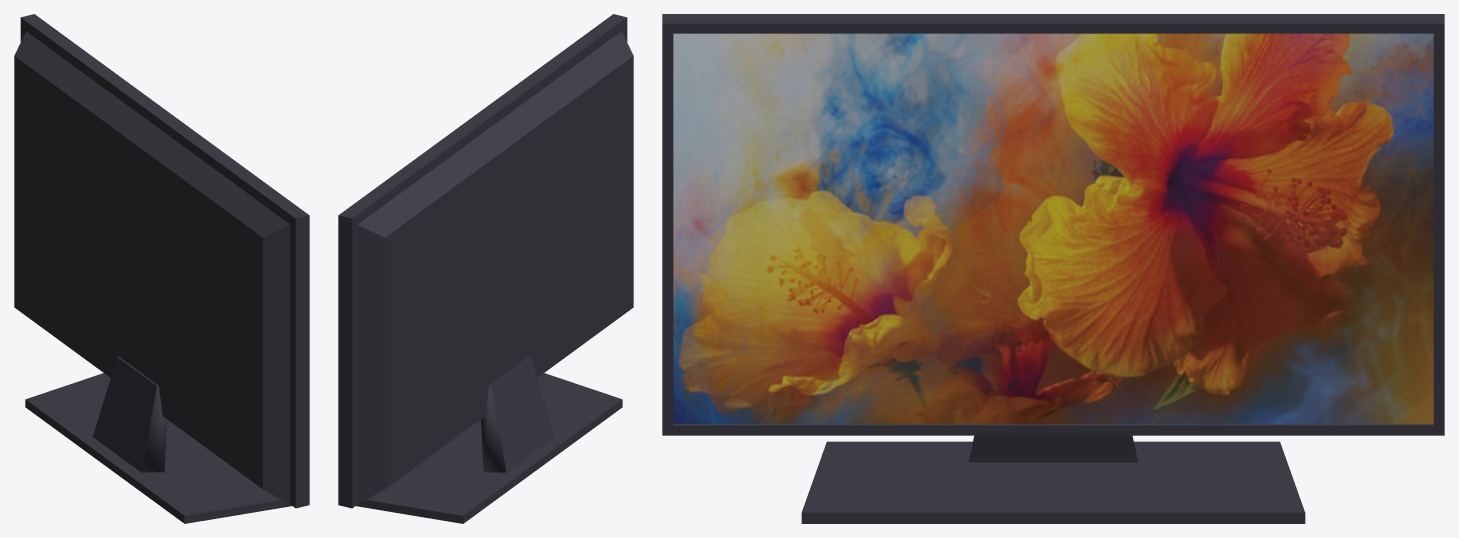
3 views of the same model, side by side, from view 1: azimuth 30°, elevation 25°; view 2: azimuth 150°, elevation 25°; view 3: azimuth 270°, elevation 25° (orthographic). The views are drawn at different scales.
Parts seen in each view (by area): view 1: TV_49; view 2: TV_49; view 3: TV_49.
Part boxes in pixels (left/top/right/bottom): TV_49: left=14, top=14, right=309, bottom=523; TV_49: left=338, top=14, right=633, bottom=523; TV_49: left=662, top=14, right=1444, bottom=523.
Size of the model in its own units: 0.2381 by 1.11 by 0.7448.
Materials: 2 (2 with a texture image).
